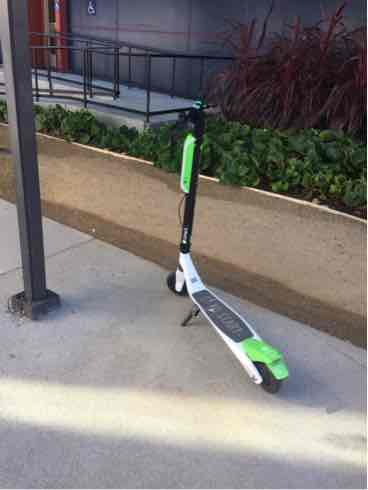scooter: (162, 85, 304, 403)
